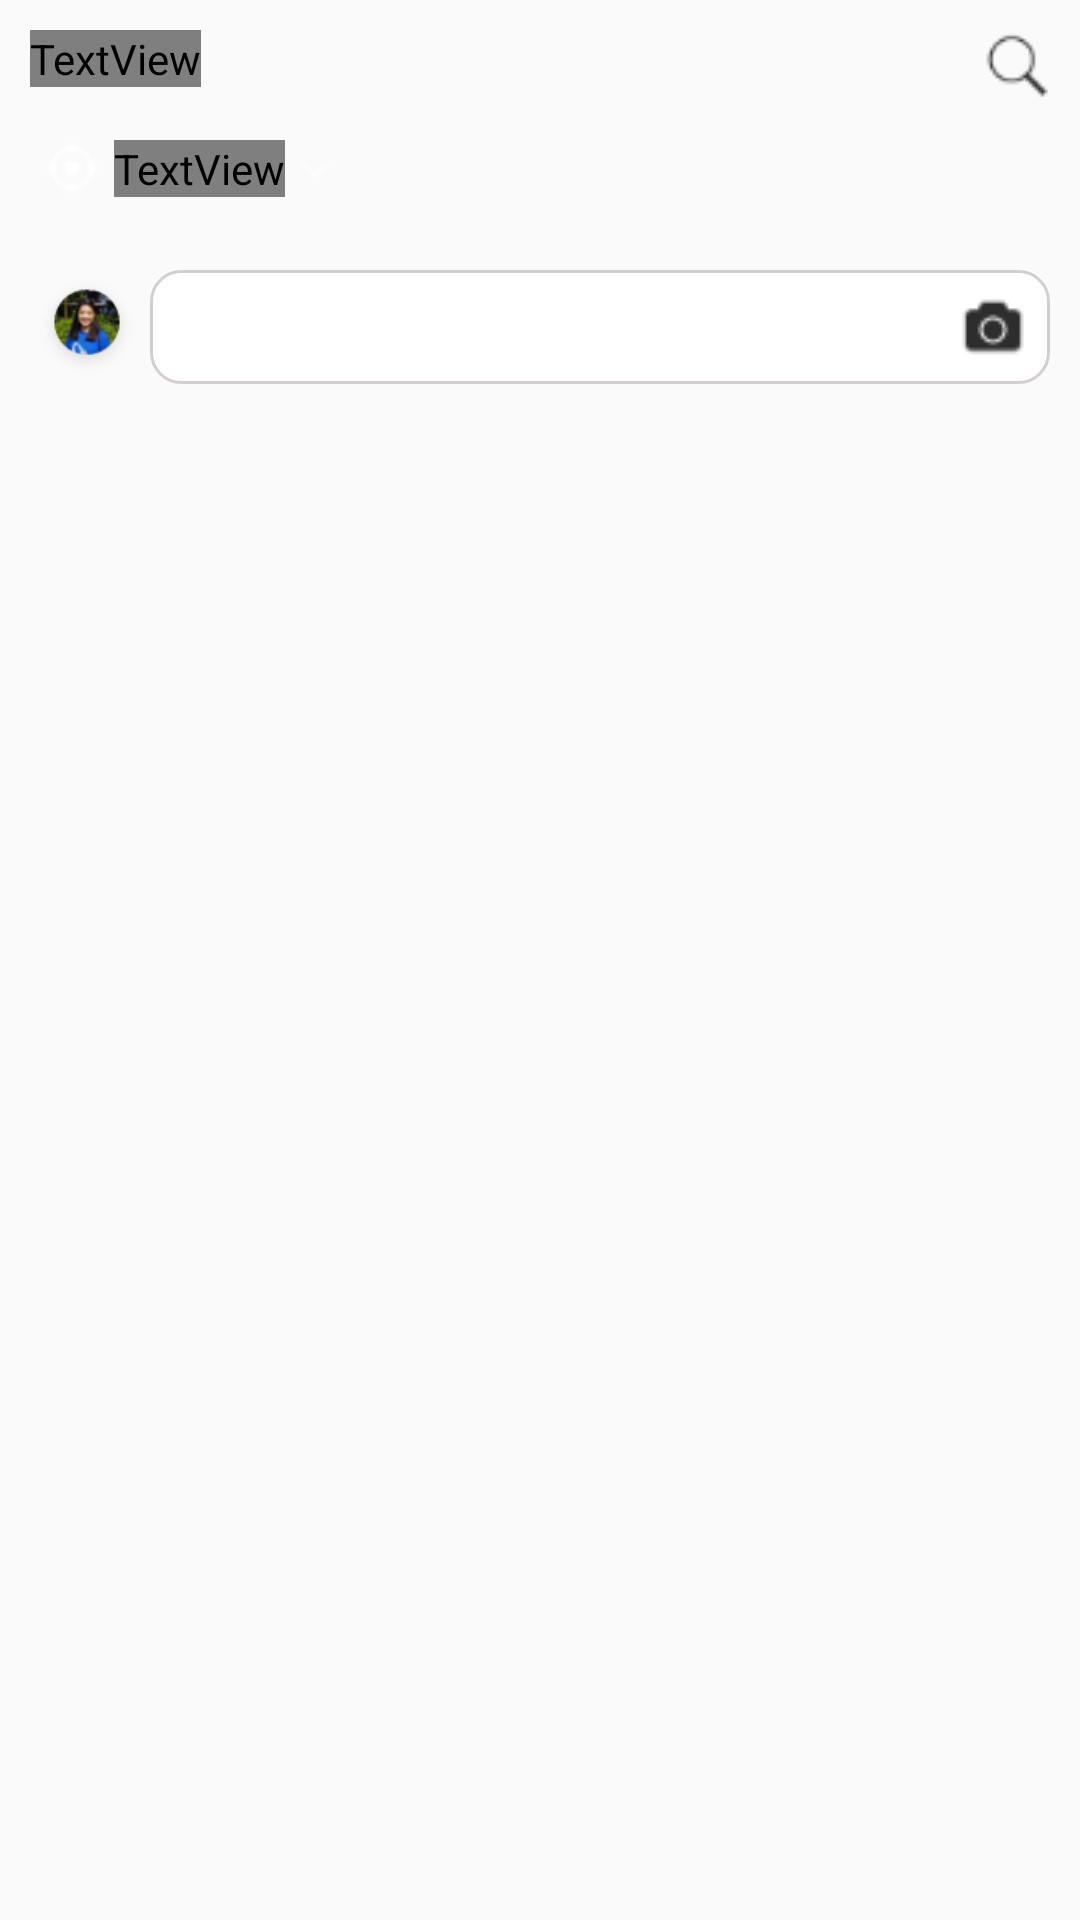

Screen size 1080px x 1920px. Icon name, then its box in pixels as region(x1, y1, x2, y2):
camera: region(963, 300, 1023, 354)
profile picture: region(54, 289, 120, 355)
search: region(987, 35, 1048, 97)
